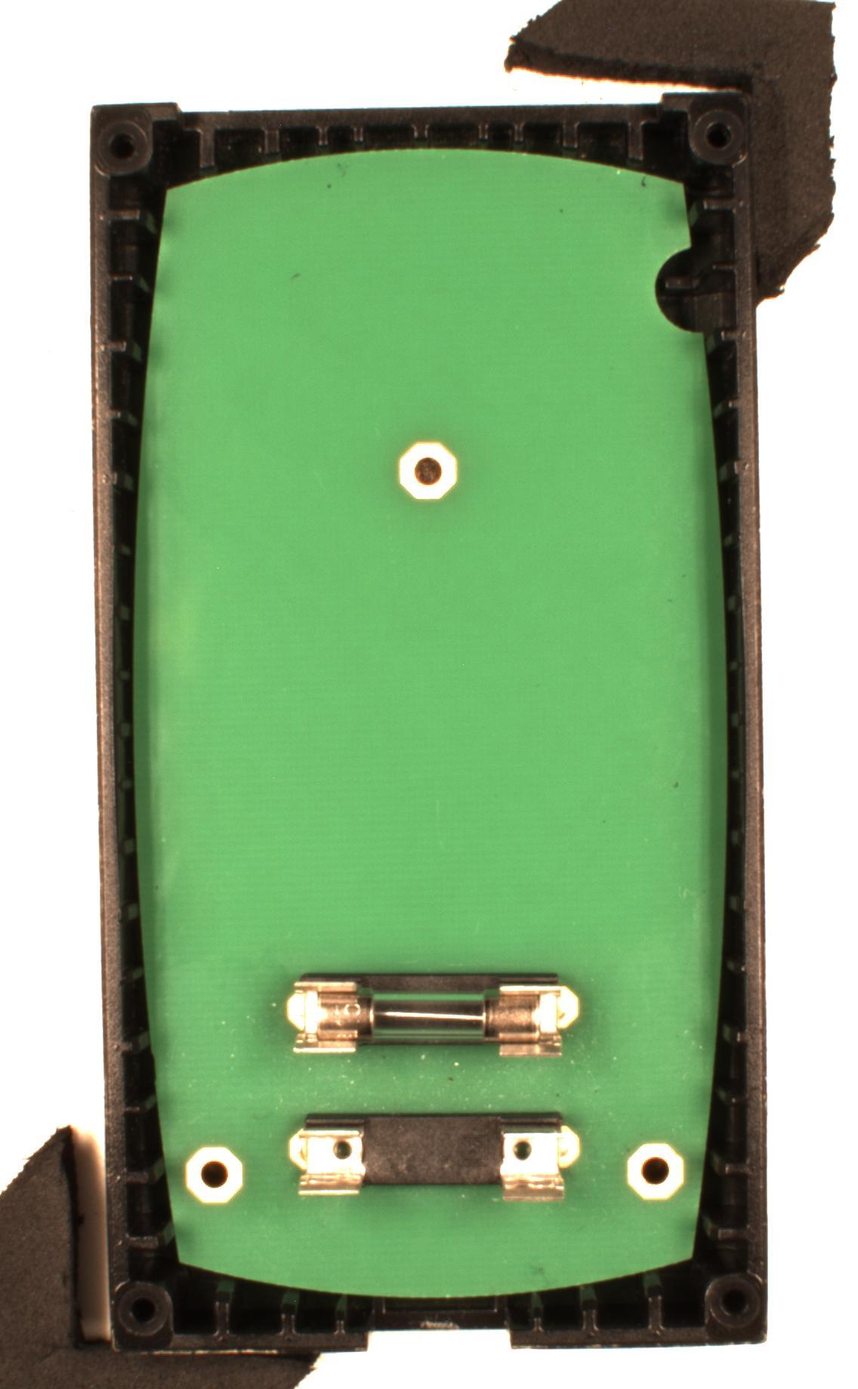Nepostojanje osiguraca: (286, 1111, 583, 1203)
